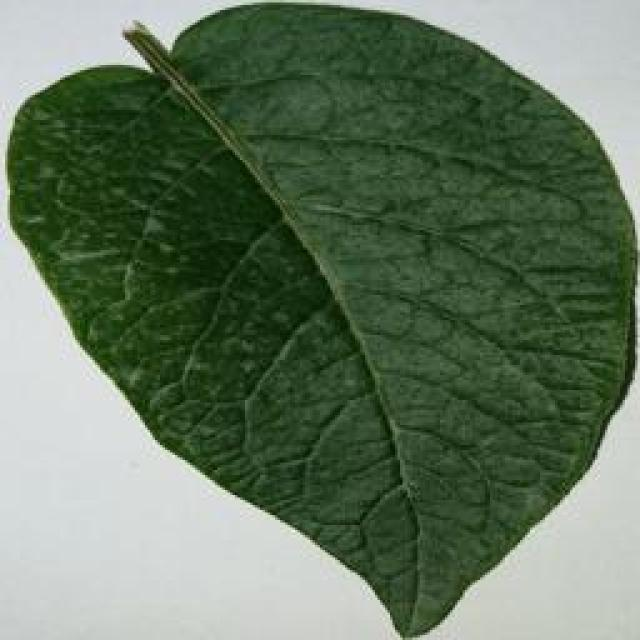Potato_Healthy: (2, 10, 628, 631)
